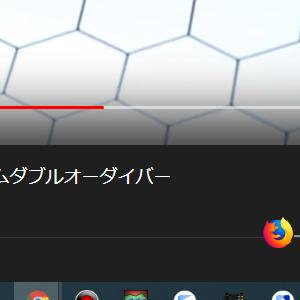firefox: (263, 216, 294, 249)
